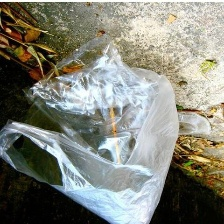plastic_bag: (0, 30, 182, 224)
